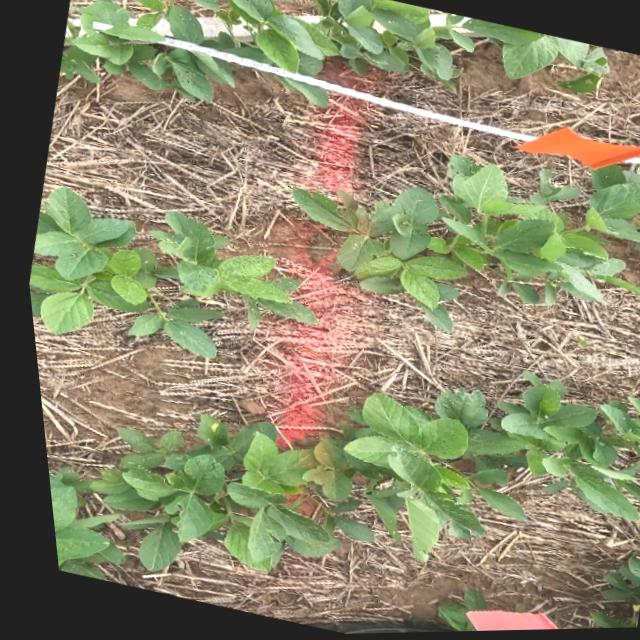soy_plant: (39, 373, 640, 572), (289, 156, 640, 331), (58, 0, 605, 102), (23, 187, 307, 354), (577, 561, 633, 631), (425, 591, 473, 633)
